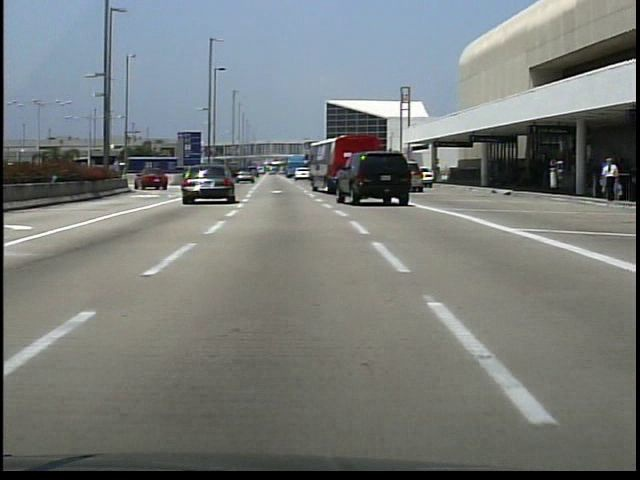person: (594, 155, 621, 205)
